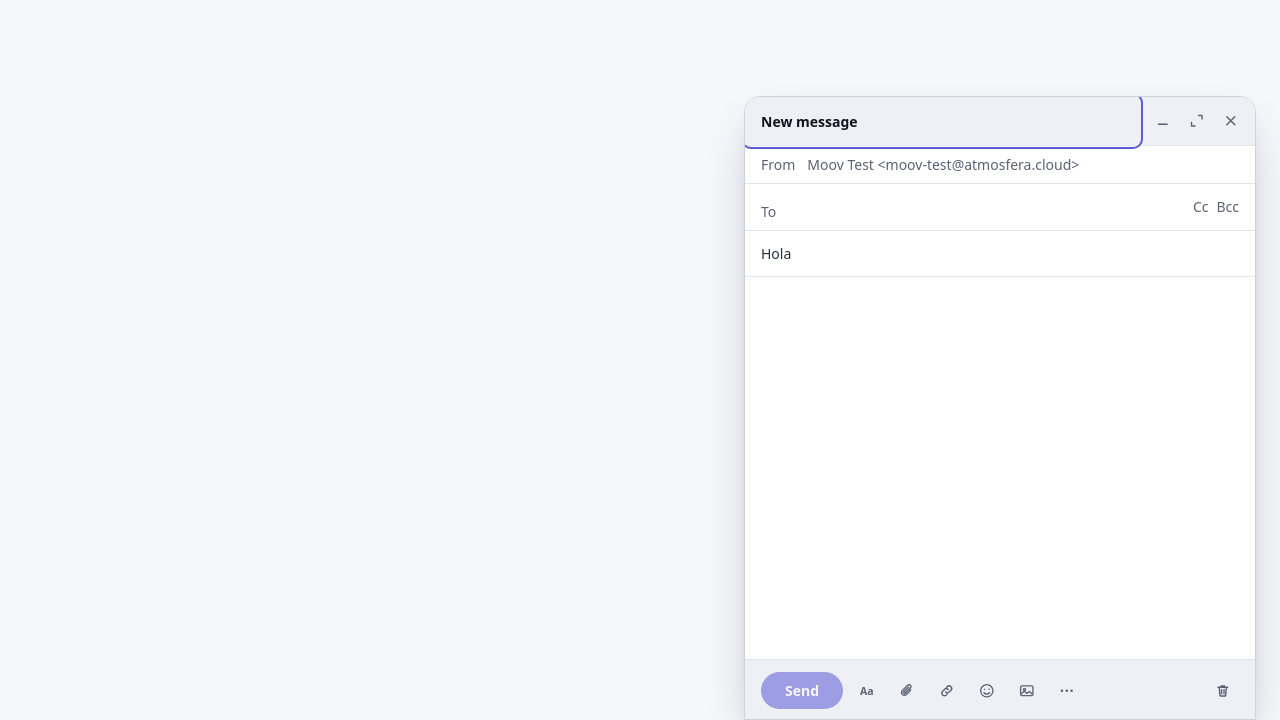
Test: D-01/D-04 — the formatting row lives in the footer, behind Aa › Aa reveals the row INSIDE the footer, not above the body
Step 1. Click the button with aria-label "Formatting options" → [867, 690], box [851,674,883,706]
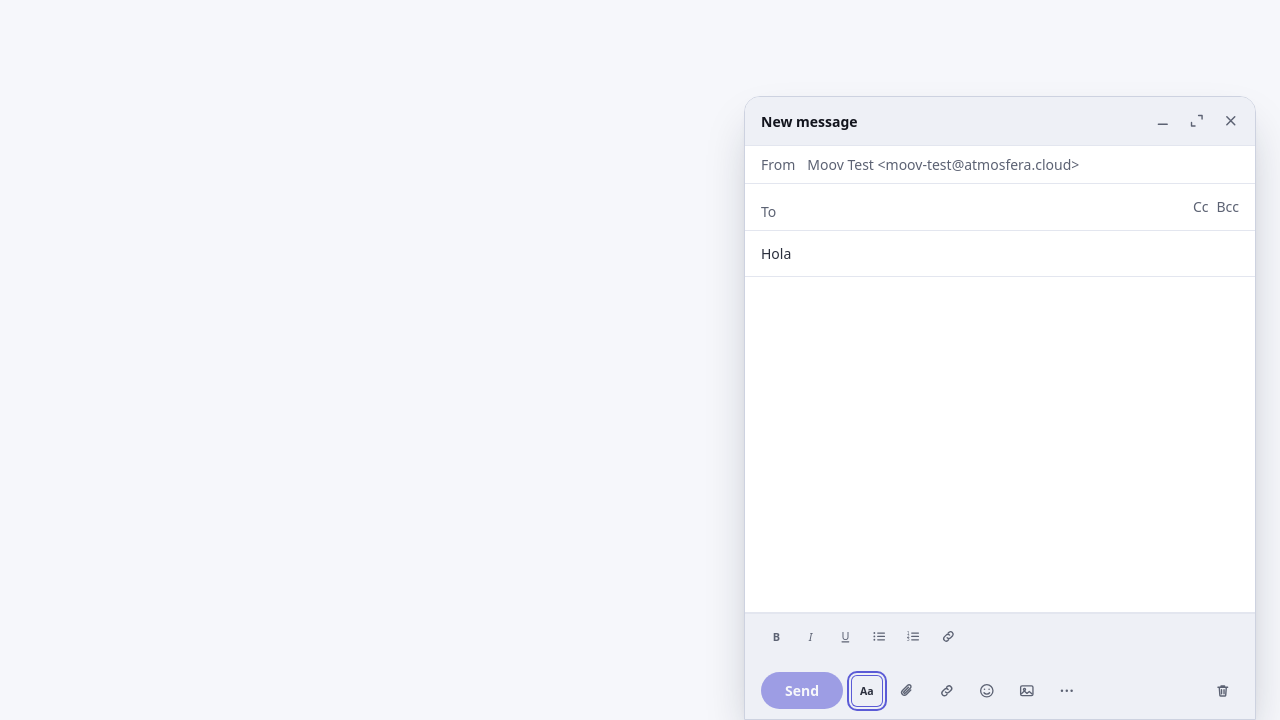
Expected: the footer "Send" is shown, [745,612,1255,719]
Expected: the element named "Formatting" is shown, [745,613,1255,660]
Expected: the button named "Bold" is shown, [761,622,791,652]
